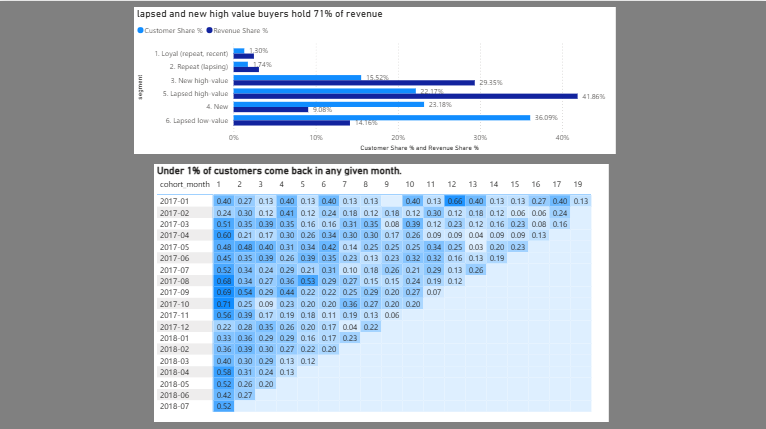

This screenshot's page, from the dashboard's own definition file:
{"tool":"powerbi","page":{"name":"Customer & Retension","canvas":[1280,720],"ordinal":1},"visuals":[{"type":"clusteredBarChart","title":"lapsed and new high value buyers hold 71% of revenue","fields":{"Y":["fact_orders.Customer Share %","fact_orders.Revenue Share %"],"Category":["fact_orders.segment"]},"box":[226.7,10,803.3,245],"z":0},{"type":"pivotTable","title":"   Under 1% of customers come back in any given month.","fields":{"Values":["Sum(cohort_retention.retention_pct)"],"Rows":["cohort_retention.cohort_month"],"Columns":["cohort_retention.month_number"]},"box":[260,271.7,758.3,430],"z":1}]}

Visuals, with their boxes in screenshot pixels (x1, y1, x2, y2), scaled from the page's 1280x720 canvas onto the 766x429 screenshot:
"lapsed and new high value buyers hold 71% of revenue" clusteredBarChart: left=136, top=6, right=616, bottom=152
"   Under 1% of customers come back in any given month." pivotTable: left=156, top=162, right=609, bottom=418
